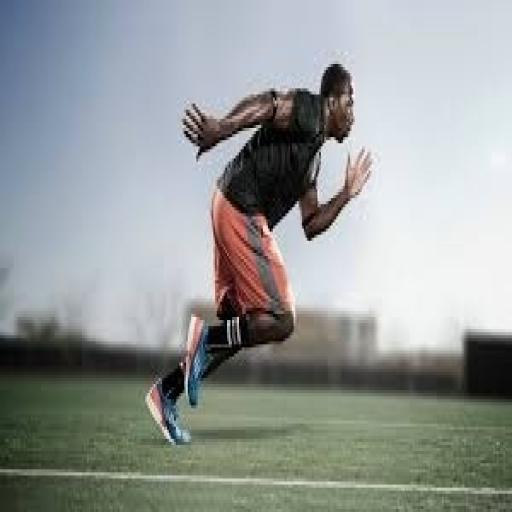running: (144, 58, 376, 451)
